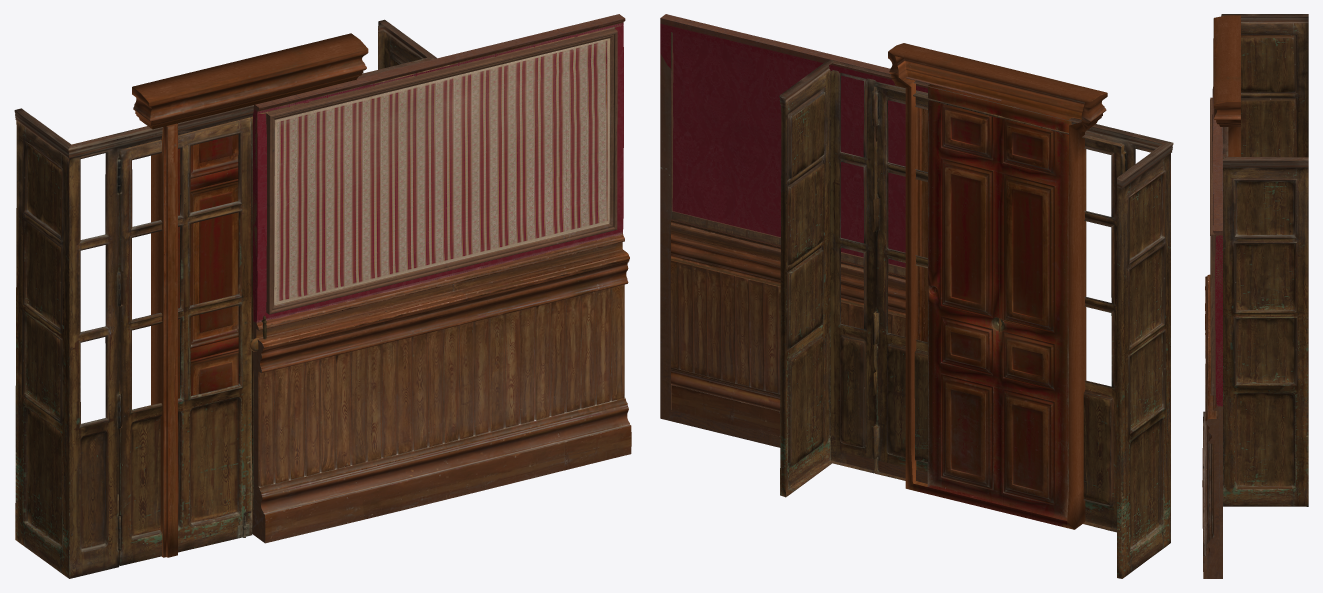
The model's file is interior.fbx.
The picture shows the model from 3 angles, left to right: view 1: azimuth 30°, elevation 25°; view 2: azimuth 150°, elevation 25°; view 3: azimuth 270°, elevation 25°; orthographic projection. The views are drawn at different scales.
Parts seen in each view (by area): view 1: Aset_interior_wall_M_wbpveaydw_03_LOD0, Aset_interior_wall_M_wbpveaydw_00_LOD0, Aset_interior_wall_M_wbpveaydw_01_LOD0, Aset_interior_wall_M_wbpveaydw_02_LOD0; view 2: Aset_interior_wall_M_wbpveaydw_01_LOD0, Aset_interior_wall_M_wbpveaydw_00_LOD0, Aset_interior_wall_M_wbpveaydw_02_LOD0, Aset_interior_wall_M_wbpveaydw_03_LOD0; view 3: Aset_interior_wall_M_wbpveaydw_00_LOD0, Aset_interior_wall_M_wbpveaydw_03_LOD0, Aset_interior_wall_M_wbpveaydw_01_LOD0, Aset_interior_wall_M_wbpveaydw_02_LOD0.
Part boxes in pixels (x1=…): Aset_interior_wall_M_wbpveaydw_03_LOD0: x1=253, y1=14, x2=631, y2=543; Aset_interior_wall_M_wbpveaydw_00_LOD0: x1=14, y1=19, x2=436, y2=578; Aset_interior_wall_M_wbpveaydw_01_LOD0: x1=132, y1=33, x2=368, y2=557; Aset_interior_wall_M_wbpveaydw_02_LOD0: x1=253, y1=19, x2=630, y2=541; Aset_interior_wall_M_wbpveaydw_01_LOD0: x1=888, y1=43, x2=1107, y2=529; Aset_interior_wall_M_wbpveaydw_00_LOD0: x1=779, y1=59, x2=1173, y2=578; Aset_interior_wall_M_wbpveaydw_02_LOD0: x1=660, y1=18, x2=1000, y2=483; Aset_interior_wall_M_wbpveaydw_03_LOD0: x1=660, y1=14, x2=1001, y2=429; Aset_interior_wall_M_wbpveaydw_00_LOD0: x1=1221, y1=14, x2=1308, y2=506; Aset_interior_wall_M_wbpveaydw_03_LOD0: x1=1202, y1=87, x2=1222, y2=578; Aset_interior_wall_M_wbpveaydw_01_LOD0: x1=1213, y1=15, x2=1240, y2=156; Aset_interior_wall_M_wbpveaydw_02_LOD0: x1=1202, y1=231, x2=1222, y2=578.
Size of the model in its own units: 301 by 243 by 62.14.
